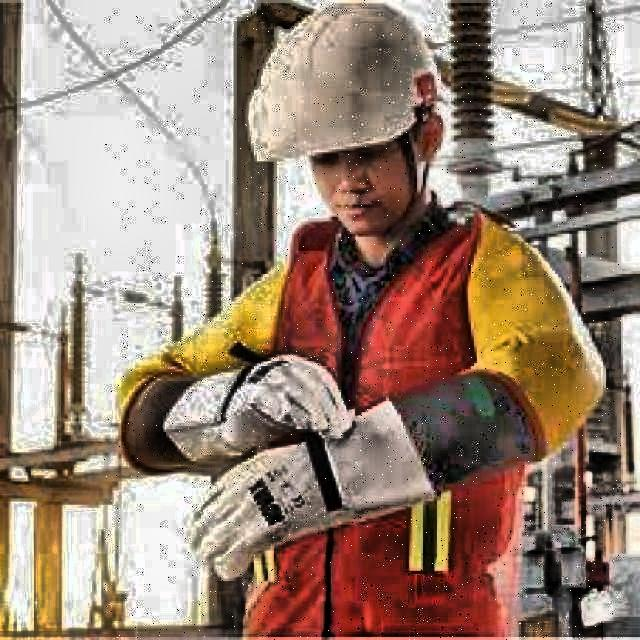safety_helmet: (236, 0, 453, 177)
safety_jacket: (226, 219, 524, 640)
